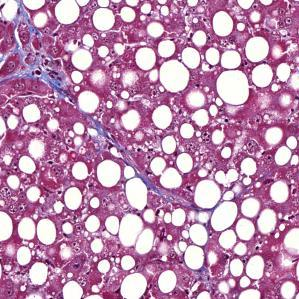fibrosis: (10, 41, 70, 92)
